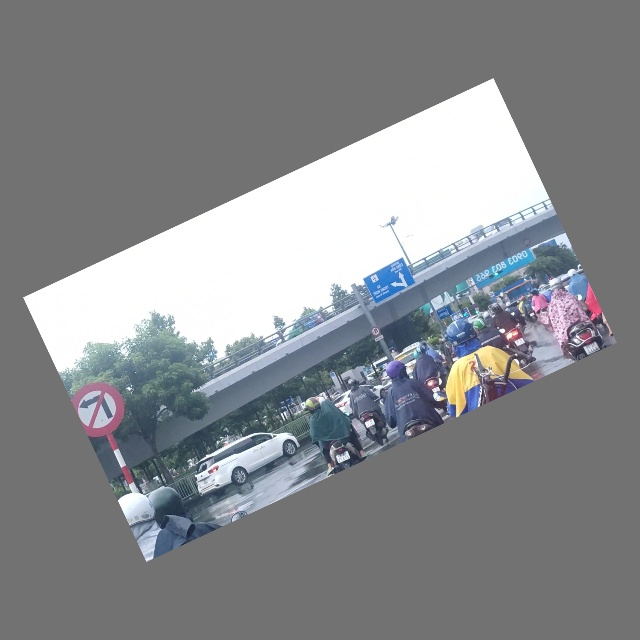P.123b: (66, 370, 137, 445)
P.124b1: (370, 325, 382, 338)
